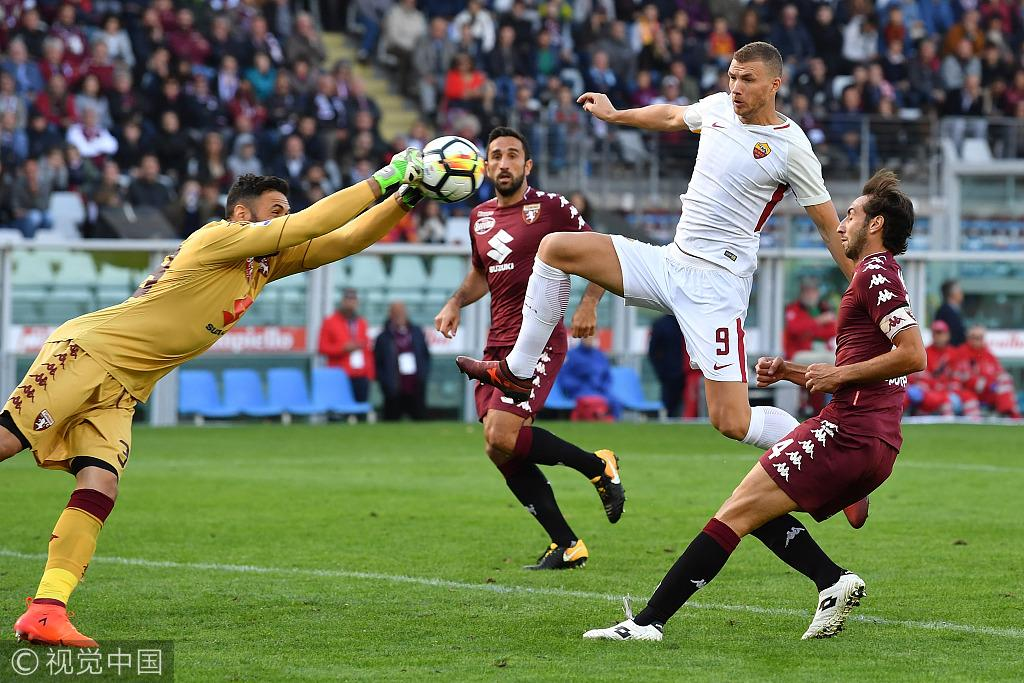ball: (416, 136, 485, 202)
